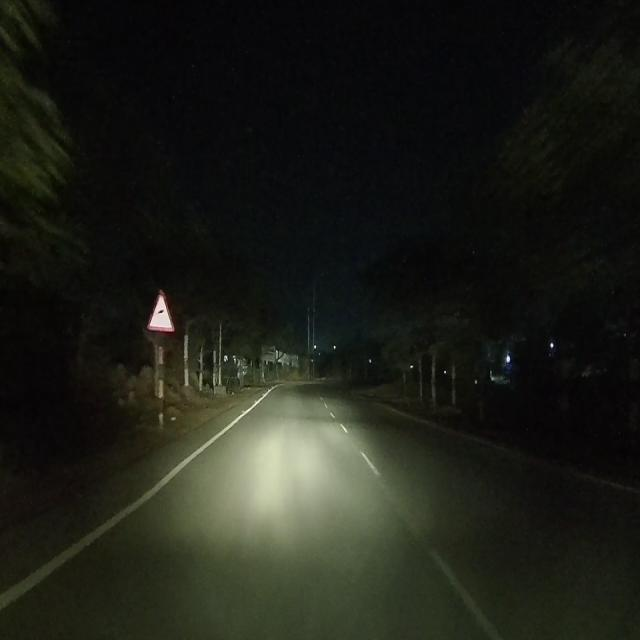right-hand-curve: (148, 287, 172, 330)
